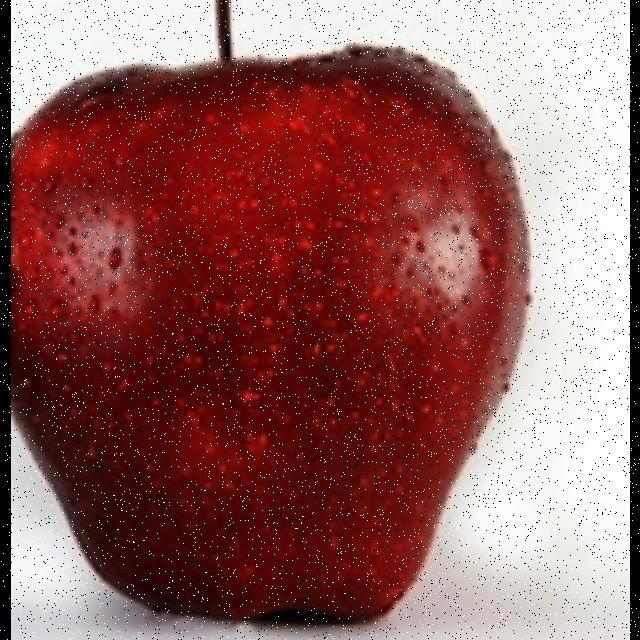Apel Segar: (10, 0, 572, 640)
